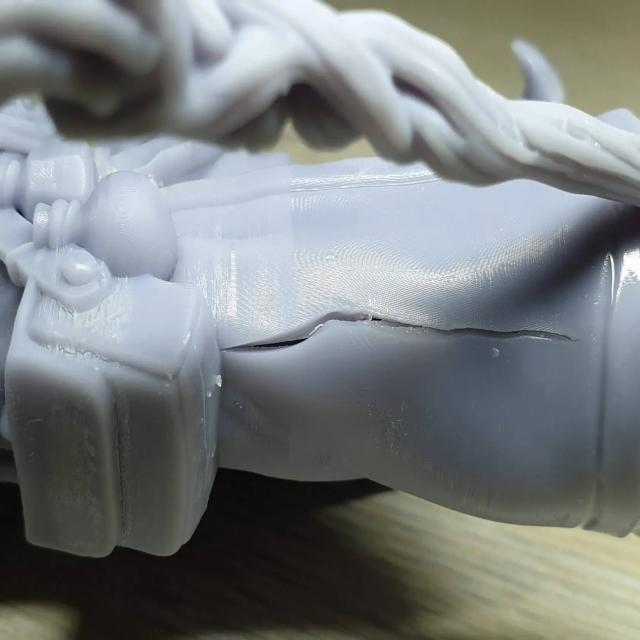Warping: (226, 287, 562, 393)
